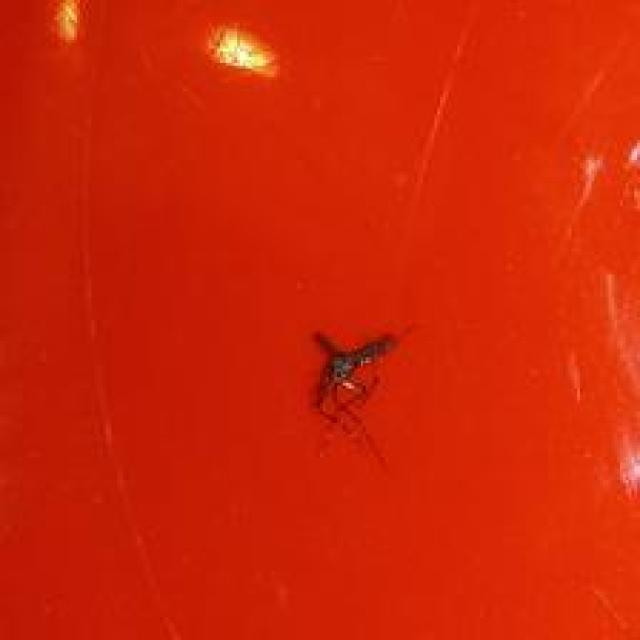Aedes albopictus: (306, 322, 411, 467)
